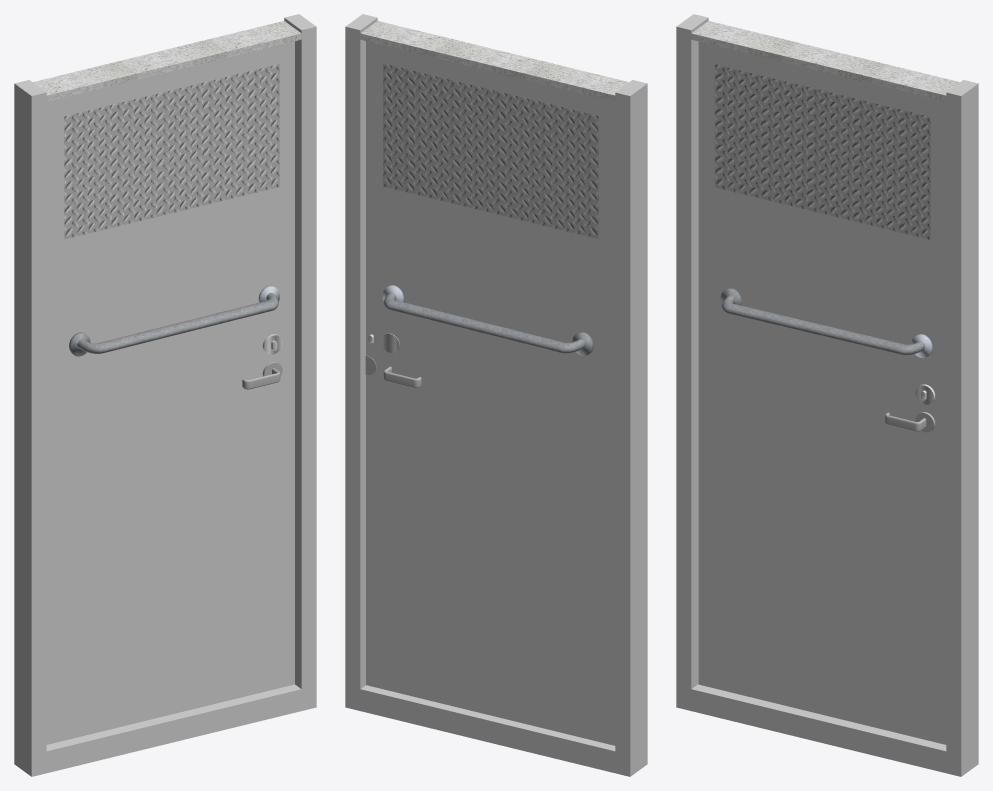
File: PortaBanheiro3.fbx
3 renders of one model, left to right at view 1: azimuth 30°, elevation 25°; view 2: azimuth 150°, elevation 25°; view 3: azimuth 330°, elevation 25°, orthographic.
Visible parts, largest first — view 1: group_ 3.019, group_ 2.030, group_.066, group_ 17.002, group_.065; view 2: group_ 3.019, group_ 2.030, group_.064, group_ 17.002, group_.063; view 3: group_ 3.019, group_ 2.030, group_.066, group_ 17.002, group_.065.
Part boxes in pixels (x1=…): group_ 3.019: x1=46, y1=41, x2=294, y2=744; group_ 2.030: x1=14, y1=14, x2=316, y2=776; group_.066: x1=64, y1=64, x2=279, y2=239; group_ 17.002: x1=33, y1=21, x2=301, y2=101; group_.065: x1=69, y1=285, x2=279, y2=356; group_ 3.019: x1=366, y1=41, x2=615, y2=745; group_ 2.030: x1=345, y1=14, x2=647, y2=776; group_.064: x1=383, y1=63, x2=598, y2=238; group_ 17.002: x1=360, y1=21, x2=628, y2=101; group_.063: x1=382, y1=285, x2=593, y2=356; group_ 3.019: x1=698, y1=41, x2=946, y2=744; group_ 2.030: x1=676, y1=14, x2=978, y2=776; group_.066: x1=714, y1=64, x2=930, y2=239; group_ 17.002: x1=691, y1=21, x2=959, y2=101; group_.065: x1=720, y1=288, x2=932, y2=358.
Size of the model in its own units: 0.95 by 2.17 by 0.2151.
7 materials, 5 textured.
